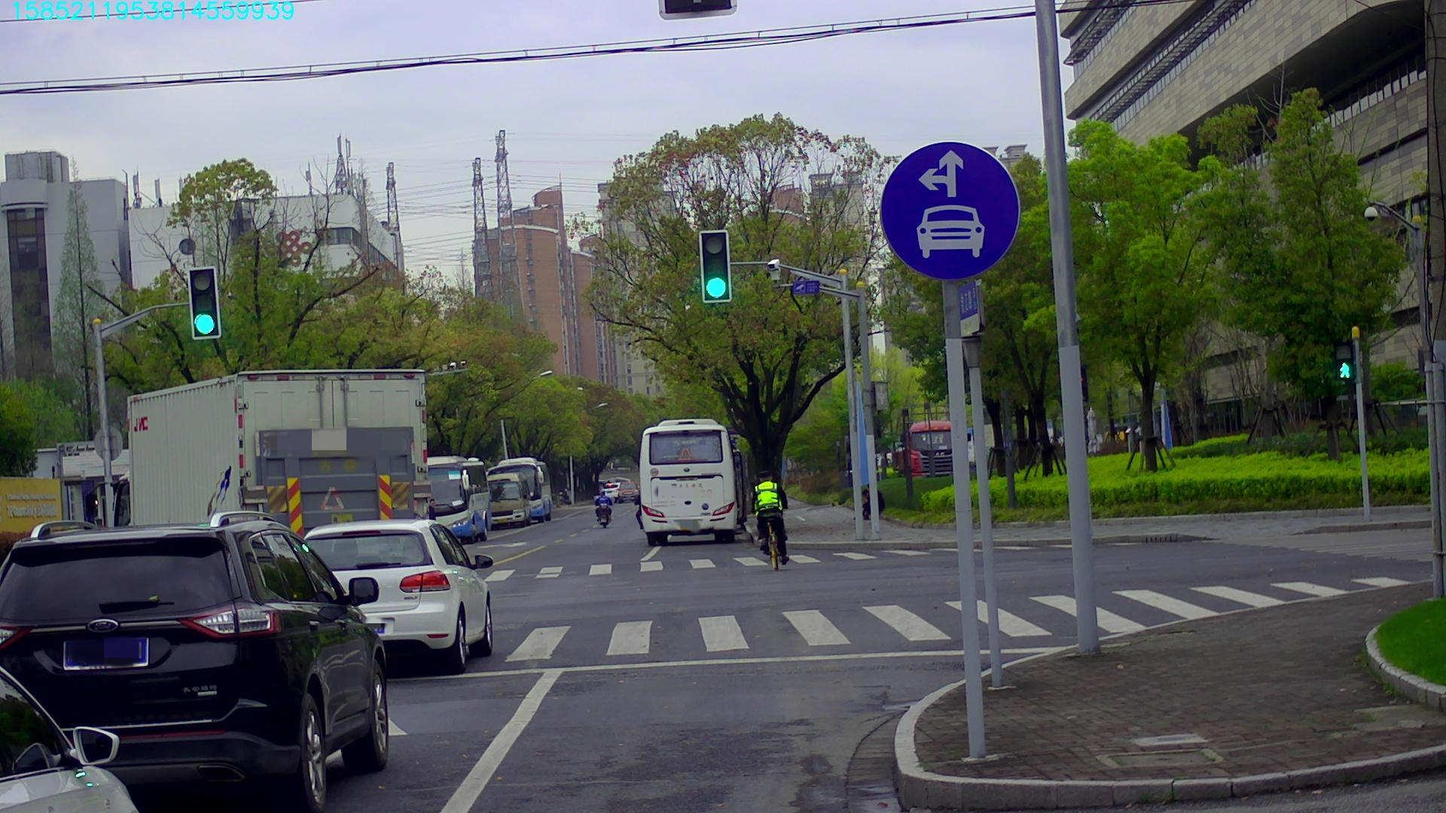green: (700, 230, 730, 301), (188, 268, 218, 336)
